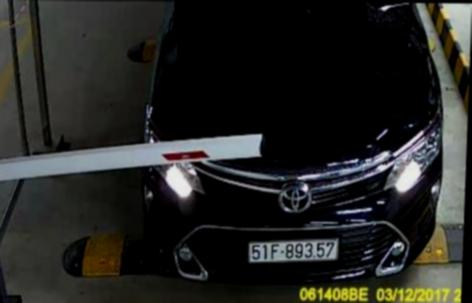License_Plate: (244, 237, 343, 265)
